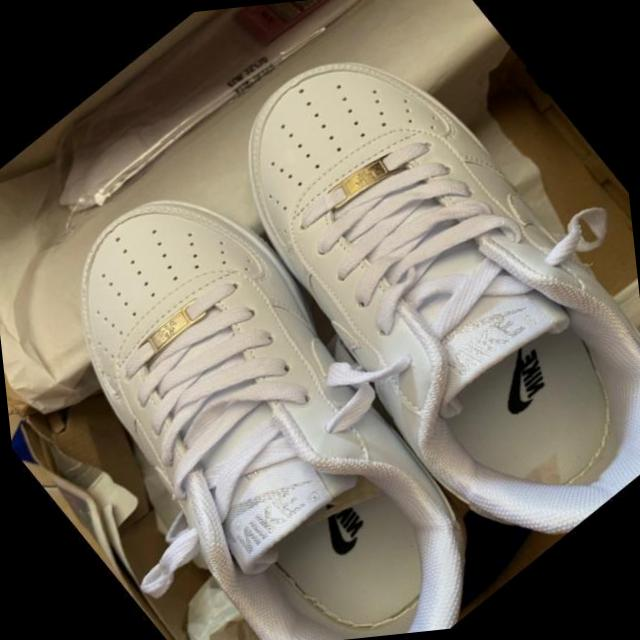nike_fake_airforce: (159, 0, 640, 609), (0, 120, 533, 640)
